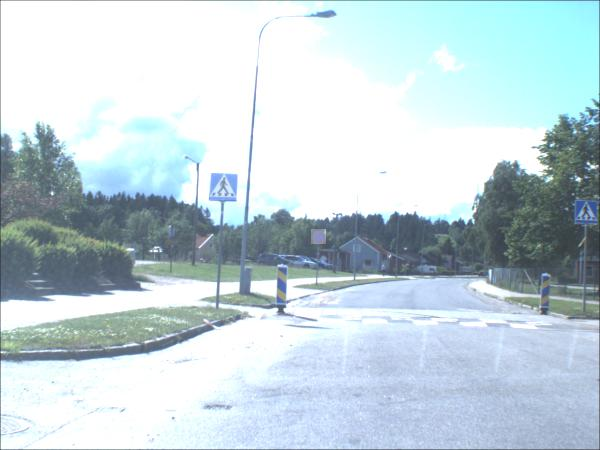NO_STOPPING_NO_STANDING: (311, 230, 327, 246)
PEDESTRIAN_CROSSING: (210, 175, 239, 202), (575, 201, 599, 226)
